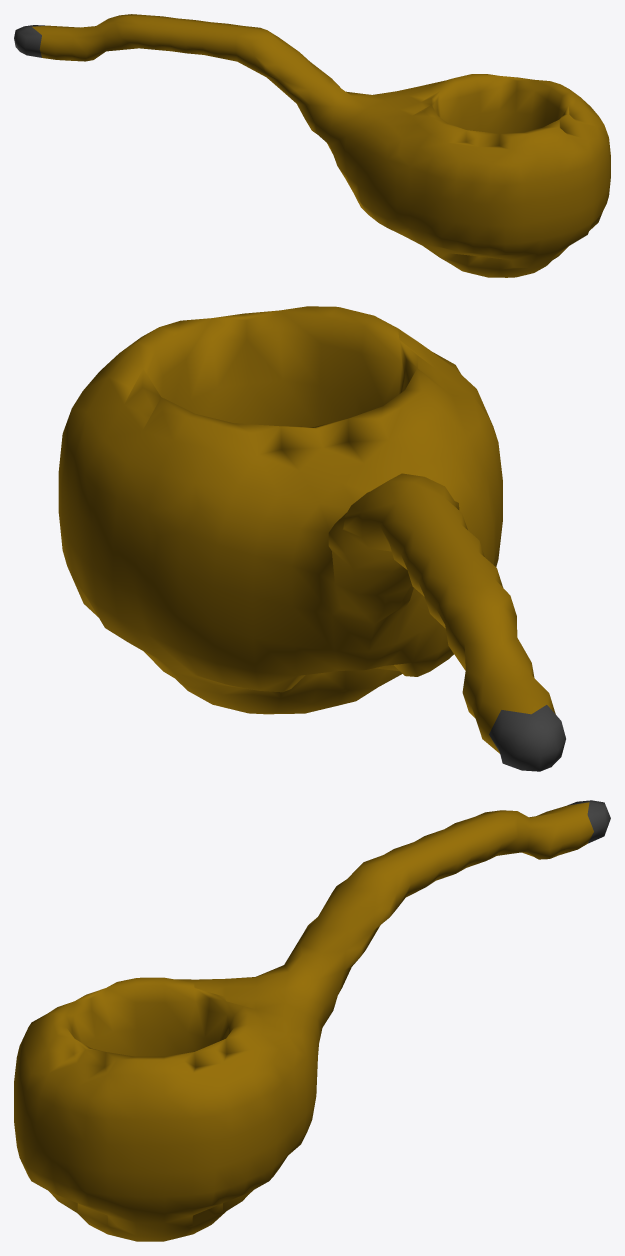
3 views of the same model, one above another, from view 1: azimuth 30°, elevation 25°; view 2: azimuth 150°, elevation 25°; view 3: azimuth 270°, elevation 25° (orthographic). The views are drawn at different scales.
Size of the model in its own units: 0.9784 by 0.5039 by 0.9784.
